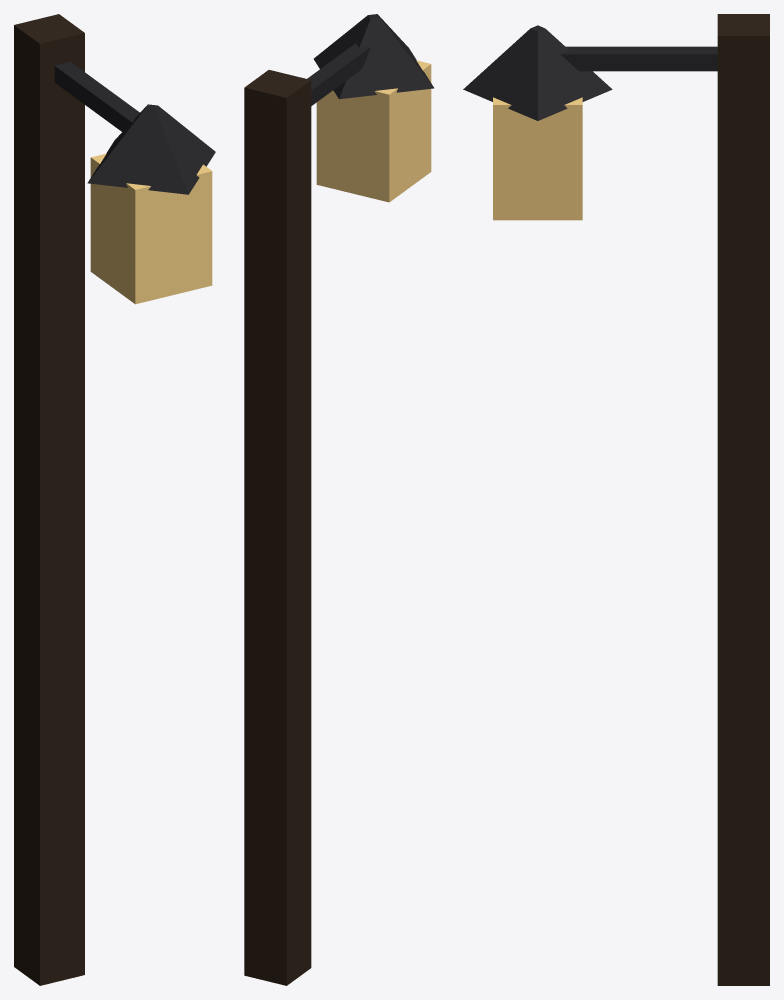
The model's file is lamp_1.glb.
3 renders of one model, left to right at view 1: azimuth 30°, elevation 25°; view 2: azimuth 150°, elevation 25°; view 3: azimuth 270°, elevation 25°, orthographic. The views are drawn at different scales.
Parts seen in each view (by area): view 1: lamp1_wood, lamp1_glass, lamp1_iron; view 2: lamp1_wood, lamp1_glass, lamp1_iron; view 3: lamp1_wood, lamp1_iron, lamp1_glass.
Boxes of the visible parts, <box> form: lamp1_wood: <box>14,14,84,985</box>; lamp1_glass: <box>90,153,212,304</box>; lamp1_iron: <box>54,62,215,194</box>; lamp1_wood: <box>244,70,311,985</box>; lamp1_glass: <box>316,60,431,202</box>; lamp1_iron: <box>307,14,433,105</box>; lamp1_wood: <box>717,14,769,985</box>; lamp1_iron: <box>463,25,717,120</box>; lamp1_glass: <box>493,97,582,220</box>.
Bounding box in the file's own units: 0.4 × 2.8 × 0.82.
